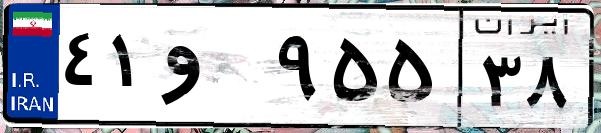1: (110, 28, 158, 98)
3: (475, 38, 525, 113)
4: (57, 26, 110, 100)
5: (385, 28, 445, 110), (330, 28, 385, 110)
8: (525, 38, 570, 115)
9: (270, 28, 330, 110)
و: (158, 20, 270, 120)
